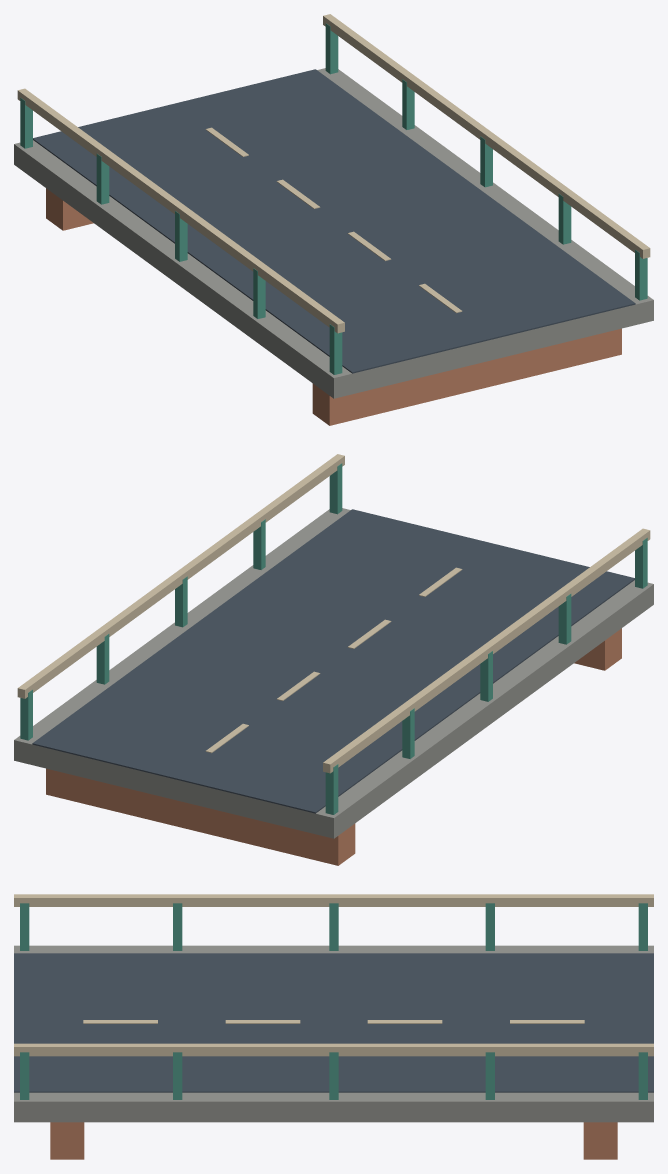
The model's file is bridge-span.glb.
3 renders of one model, top to bottom at view 1: azimuth 30°, elevation 25°; view 2: azimuth 150°, elevation 25°; view 3: azimuth 270°, elevation 25°, orthographic.
Parts seen in each view (by area): view 1: asset_root; view 2: asset_root; view 3: asset_root.
Boxes of the visible parts, left/top/right/bottom form: asset_root: left=14, top=14, right=653, bottom=425; asset_root: left=14, top=454, right=653, bottom=865; asset_root: left=14, top=894, right=653, bottom=1159.
Bounding box in the file's own units: 5.2 × 1.82 × 9.
